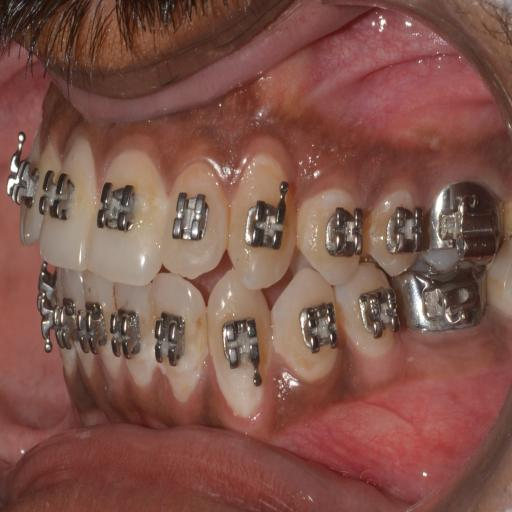correct_brace: (271, 264, 342, 386), (293, 172, 364, 287), (243, 192, 289, 256), (220, 311, 264, 376), (94, 178, 138, 242), (296, 299, 340, 355), (40, 161, 76, 226), (155, 309, 186, 370), (176, 188, 208, 246)
incorrect_brace: (160, 162, 230, 275), (146, 278, 206, 391), (324, 202, 365, 255)
